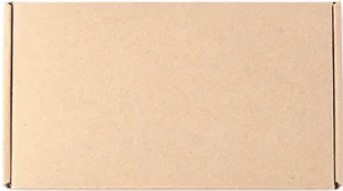stock: (5, 2, 343, 190)
